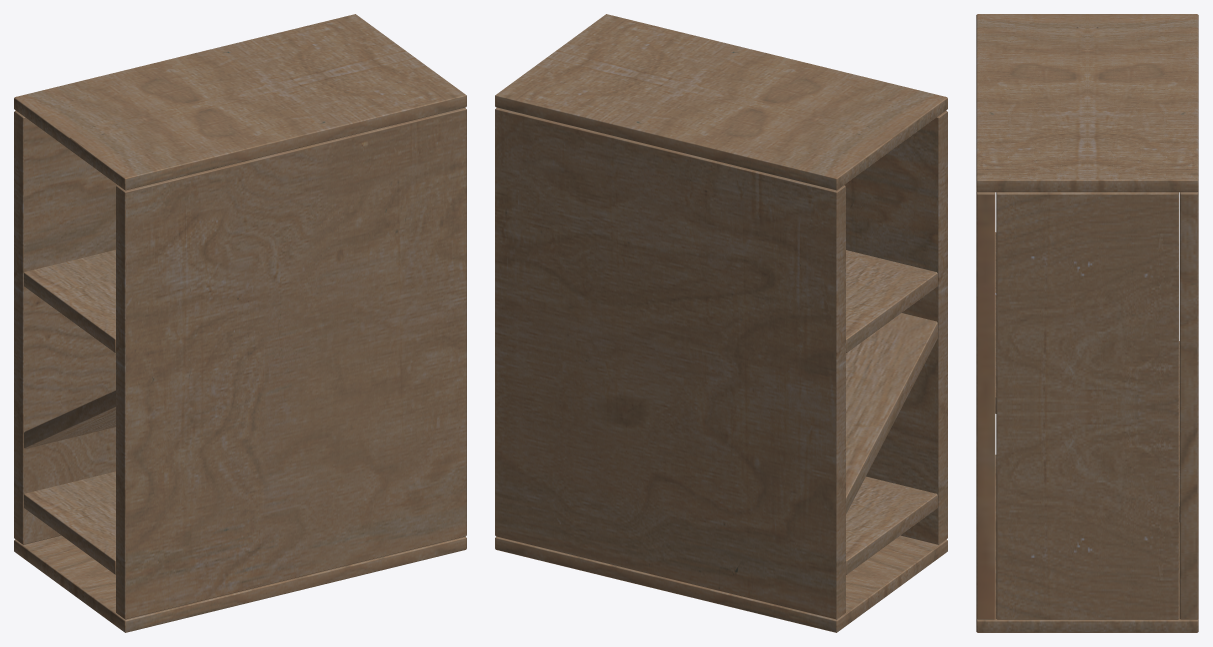
File: SM_Middle_Large_Shelf.fbx
3 views of the same model, side by side, from view 1: azimuth 30°, elevation 25°; view 2: azimuth 150°, elevation 25°; view 3: azimuth 270°, elevation 25° (orthographic).
Parts seen in each view (by area): view 1: SM_Middle_Large_Shelf_LOD0; view 2: SM_Middle_Large_Shelf_LOD0; view 3: SM_Middle_Large_Shelf_LOD0.
Boxes of the visible parts, bbox=[...] form: SM_Middle_Large_Shelf_LOD0: bbox=[14, 14, 466, 632]; SM_Middle_Large_Shelf_LOD0: bbox=[495, 14, 947, 632]; SM_Middle_Large_Shelf_LOD0: bbox=[976, 14, 1198, 632].
Bounding box in the file's own units: 79.74 × 44.91 × 101.
Materials: 1 (1 with a texture image).
